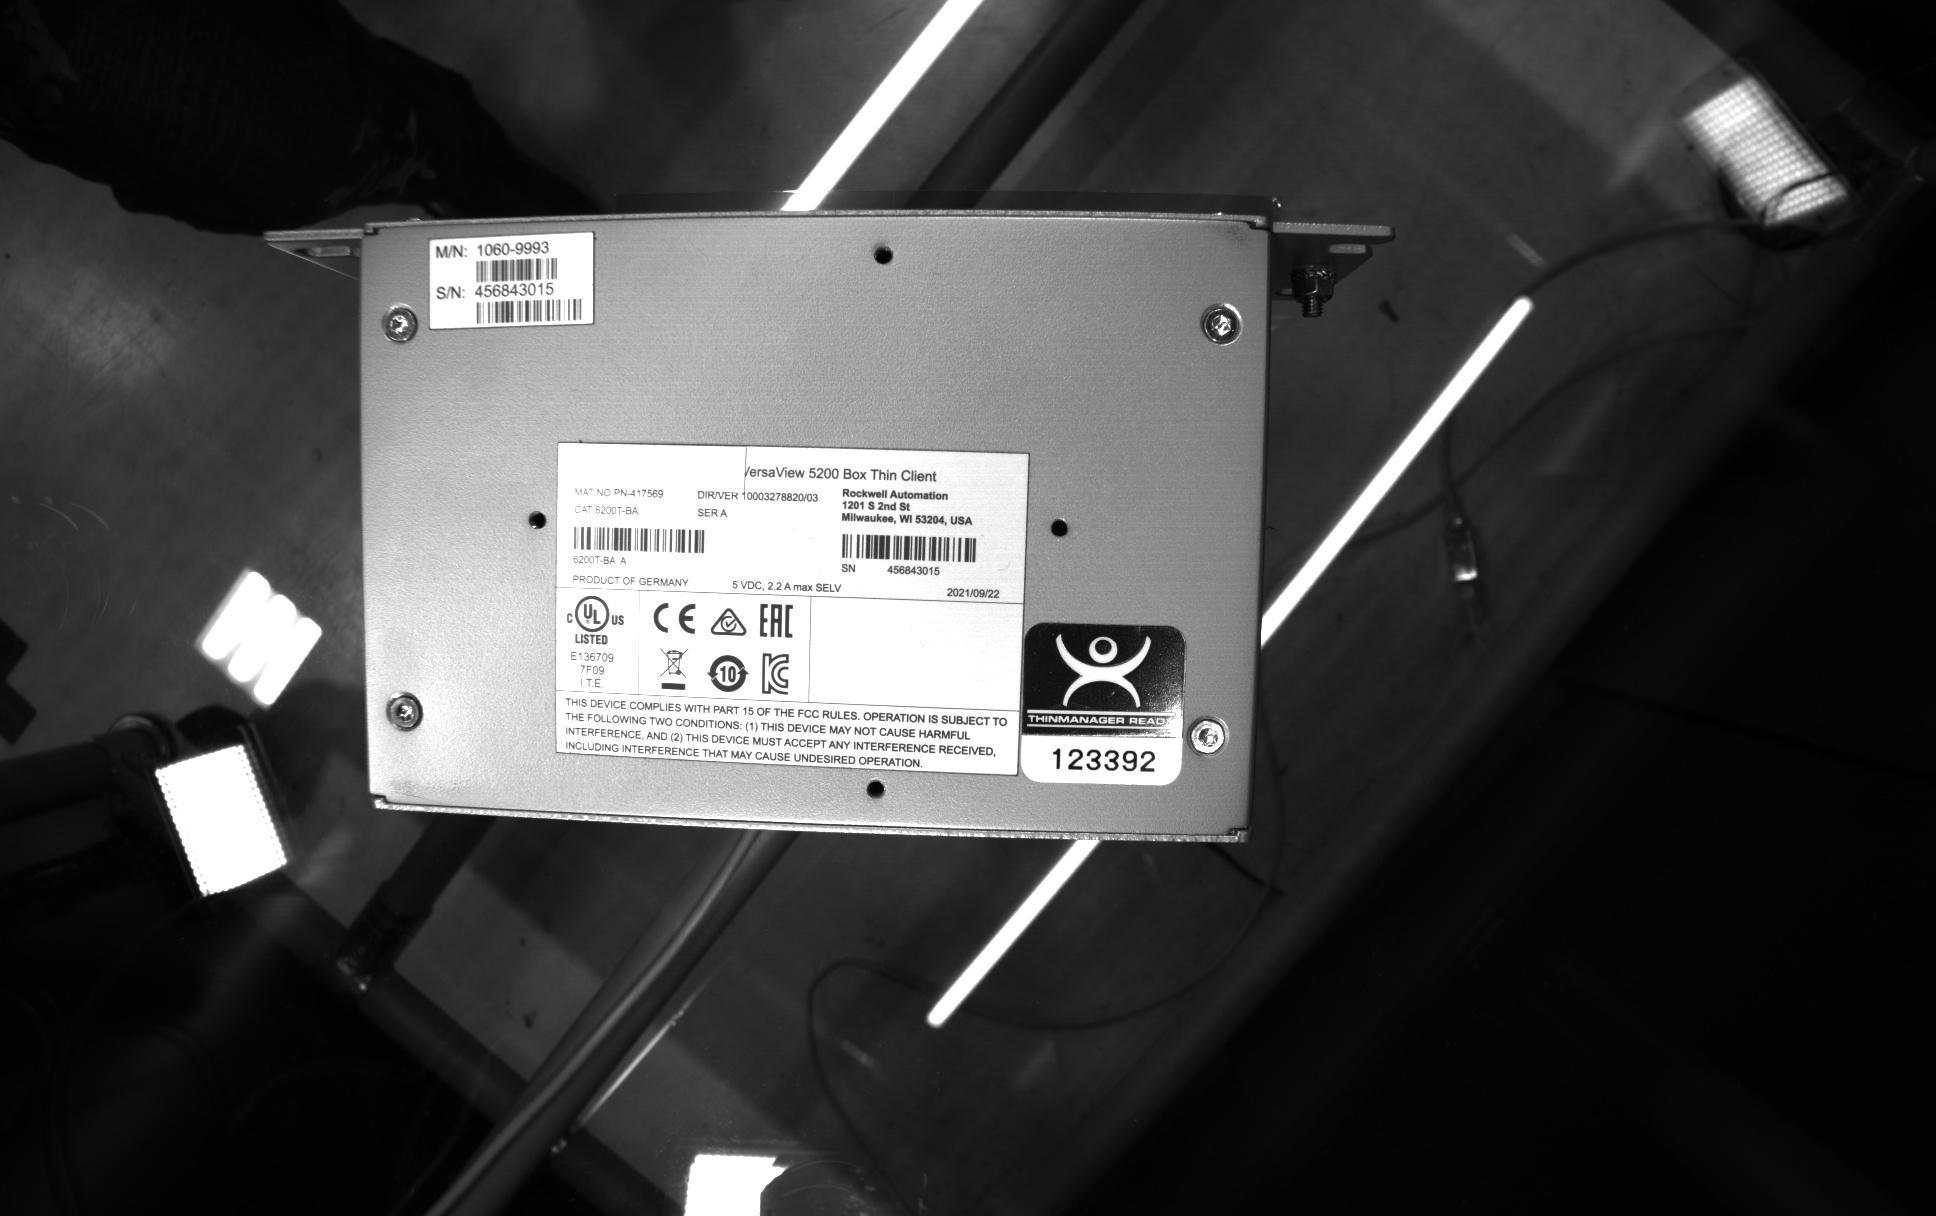Barcode: (832, 530, 982, 567), (565, 521, 714, 558), (471, 290, 587, 331), (471, 251, 560, 284)
CamTop: (343, 195, 1285, 859)
Label_Seriennummer: (539, 426, 1044, 787)
Loch_Montage: (518, 495, 558, 539), (857, 773, 899, 813), (1041, 507, 1080, 548), (864, 234, 905, 270)
Schraube: (1195, 297, 1252, 350), (378, 684, 429, 740), (1184, 709, 1234, 764), (375, 297, 424, 349)
